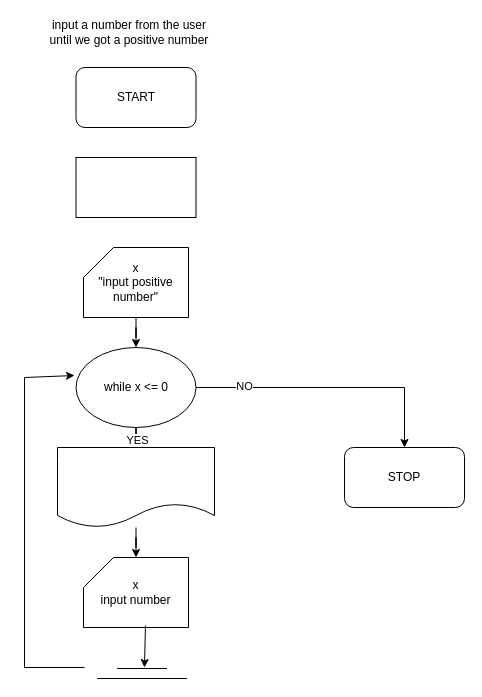
This 482x697 diagram has some shape labels left out. The shapes that lost their labels are listed below. From the top down, each one's centre as x and y in pixels, then its label:
point 135,187: x: int
point 135,487: "this number is not positive"
